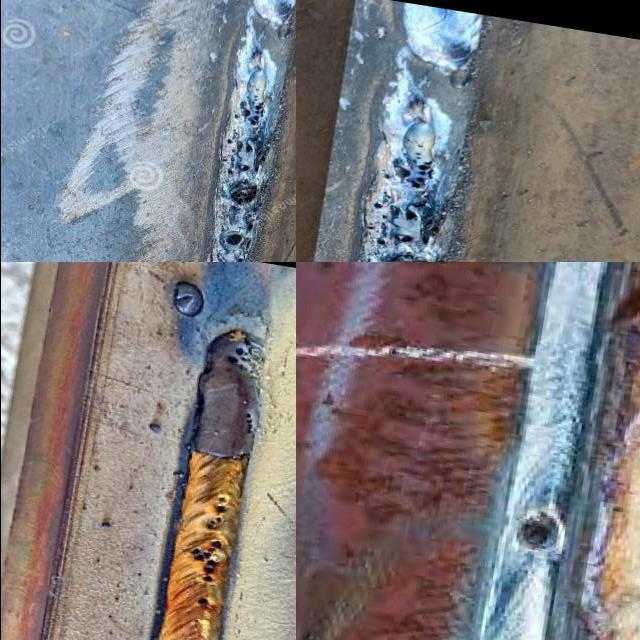defect: (219, 82, 273, 177), (504, 505, 570, 557), (380, 136, 436, 193), (207, 220, 261, 262), (180, 538, 222, 589), (224, 345, 258, 378), (225, 179, 259, 209), (204, 494, 230, 532), (417, 218, 448, 249), (238, 404, 259, 436), (401, 198, 429, 221), (382, 253, 431, 262), (194, 593, 211, 609), (391, 235, 414, 244), (380, 190, 393, 201), (362, 224, 376, 232), (371, 201, 383, 210), (374, 238, 386, 246), (377, 214, 390, 221)
